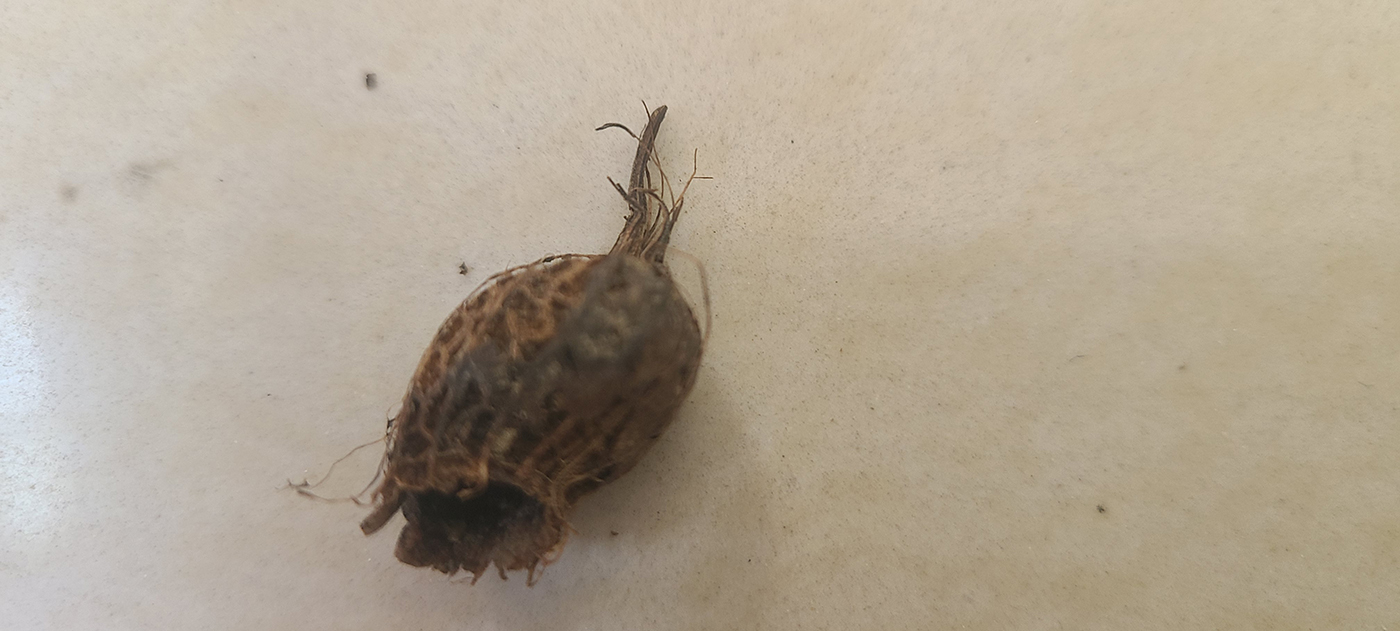l: (371, 249, 703, 582)
